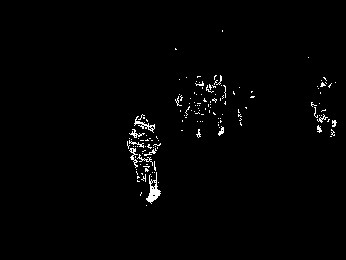person: (126, 114, 161, 203), (188, 76, 207, 139), (208, 74, 227, 137), (311, 76, 326, 135)
